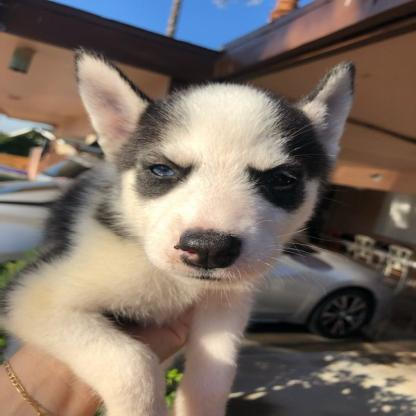husky: (0, 52, 361, 416)
